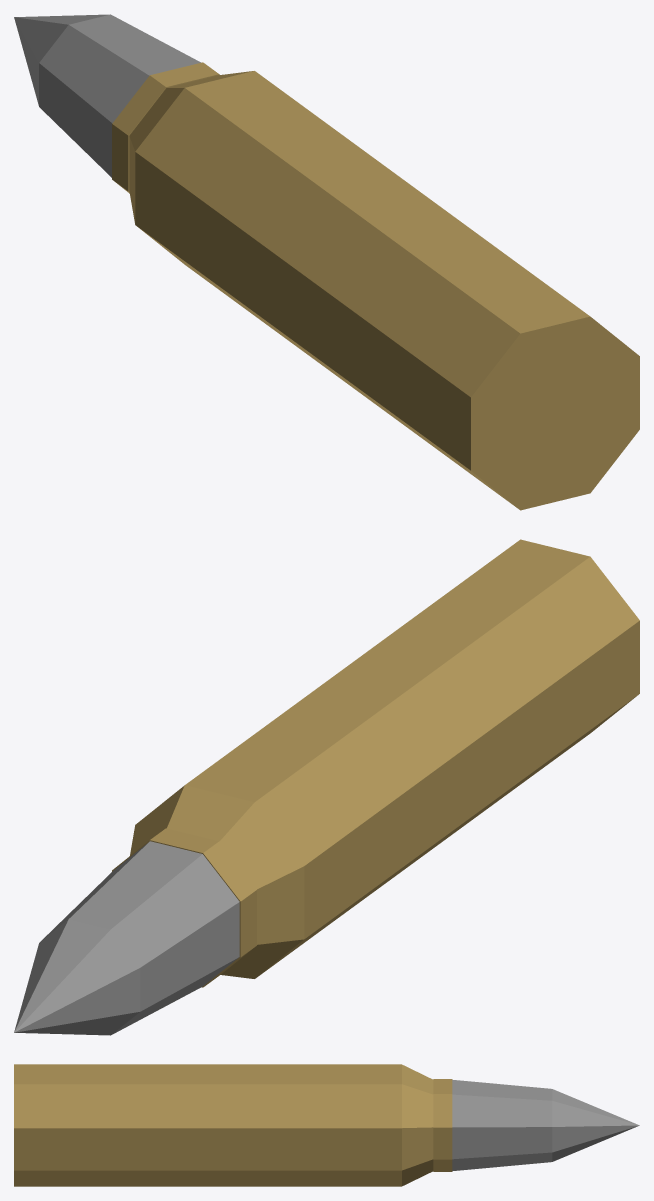
Rendered from ce_ammo_light_ap_a.obj.
The picture shows the model from 3 angles, top to bottom: view 1: azimuth 30°, elevation 25°; view 2: azimuth 150°, elevation 25°; view 3: azimuth 270°, elevation 25°; orthographic projection. The views are drawn at different scales.
Parts seen in each view (by area): view 1: ce_ammo_light_ap_a_0, ce_ammo_light_ap_a_3, ce_ammo_light_ap_a_2, ce_ammo_light_ap_a_4, ce_ammo_light_ap_a_1; view 2: ce_ammo_light_ap_a_0, ce_ammo_light_ap_a_3, ce_ammo_light_ap_a_1, ce_ammo_light_ap_a_4, ce_ammo_light_ap_a_2; view 3: ce_ammo_light_ap_a_0, ce_ammo_light_ap_a_3, ce_ammo_light_ap_a_1, ce_ammo_light_ap_a_4, ce_ammo_light_ap_a_2.
Boxes of the visible parts, x1,y1,x2,y2 form: ce_ammo_light_ap_a_0: (135,71,639,510); ce_ammo_light_ap_a_3: (39,14,200,177); ce_ammo_light_ap_a_2: (112,62,219,193); ce_ammo_light_ap_a_4: (14,14,108,105); ce_ammo_light_ap_a_1: (129,71,252,224); ce_ammo_light_ap_a_0: (185,539,639,976); ce_ammo_light_ap_a_3: (40,841,239,1034); ce_ammo_light_ap_a_1: (130,785,304,978); ce_ammo_light_ap_a_4: (14,919,140,1035); ce_ammo_light_ap_a_2: (112,828,256,987); ce_ammo_light_ap_a_0: (14,1064,401,1186); ce_ammo_light_ap_a_3: (452,1079,552,1171); ce_ammo_light_ap_a_1: (402,1064,433,1186); ce_ammo_light_ap_a_4: (552,1089,639,1161); ce_ammo_light_ap_a_2: (433,1079,452,1171).
Bounding box in the file's own units: 0.1478 × 0.1478 × 0.82.
